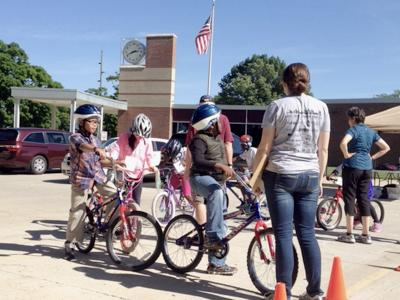With Helmet: (66, 99, 105, 141), (191, 103, 222, 136)
